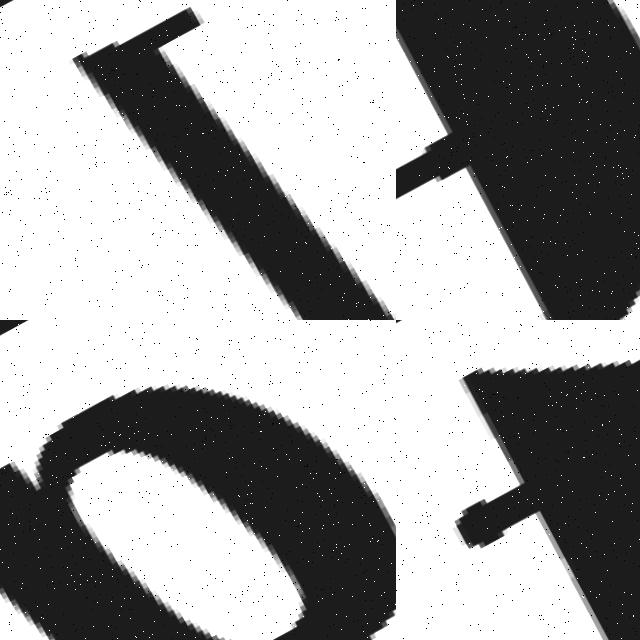E: (396, 0, 640, 320)
G: (0, 320, 396, 640)
L: (50, 0, 396, 320)
T: (396, 320, 640, 640)
